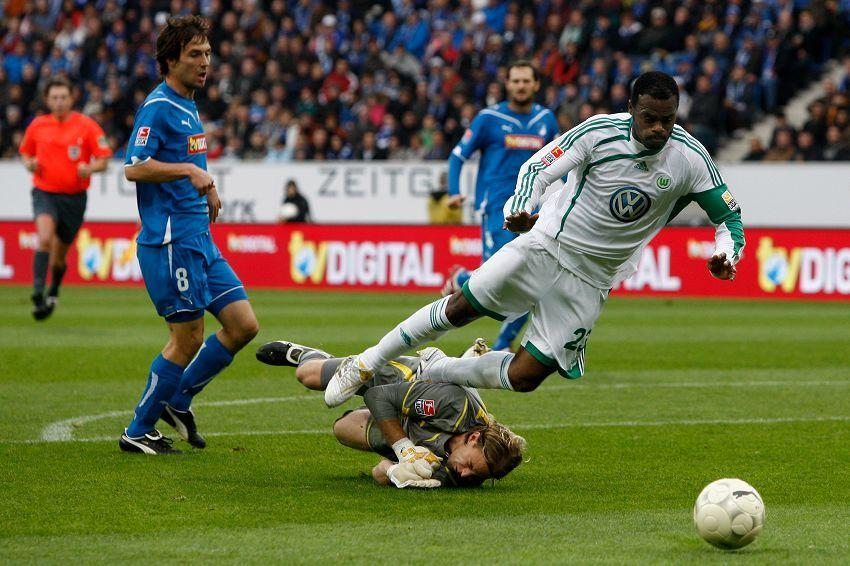down: (310, 67, 734, 380), (252, 332, 526, 496)
up: (117, 16, 259, 456), (446, 48, 567, 262), (21, 74, 111, 322)
